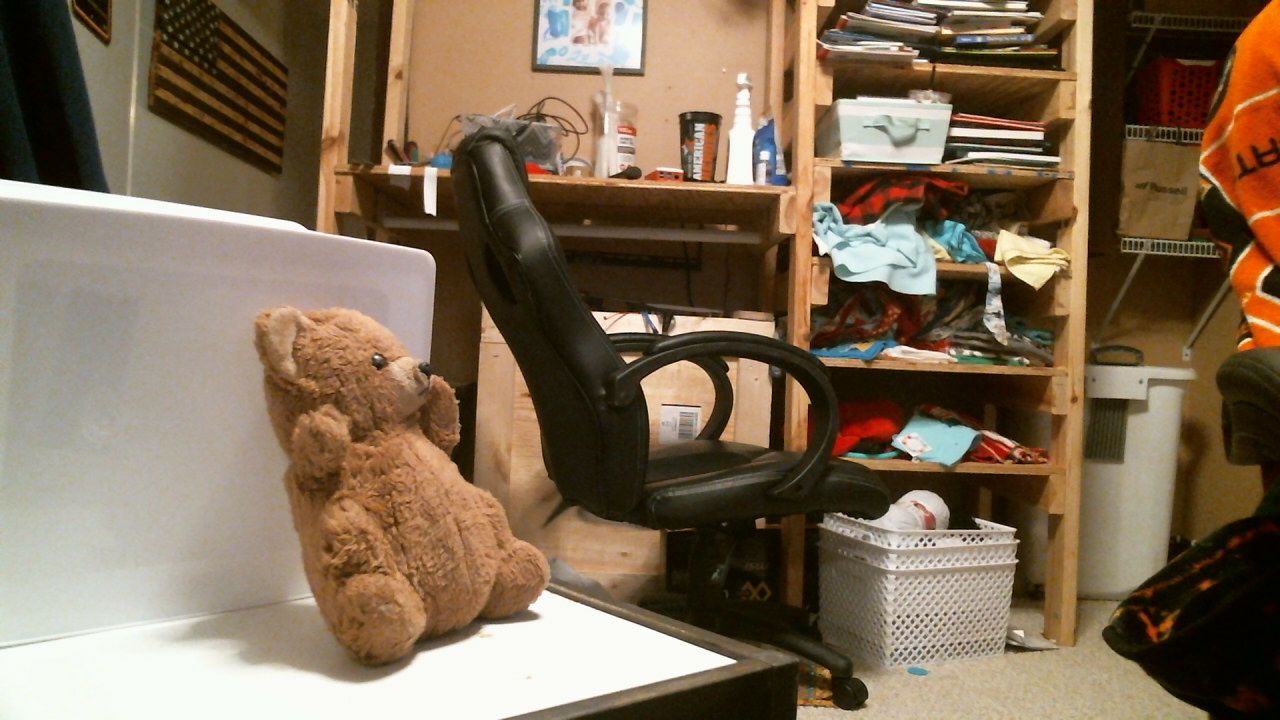Little_Mister_Bear: (362, 359, 443, 418)
